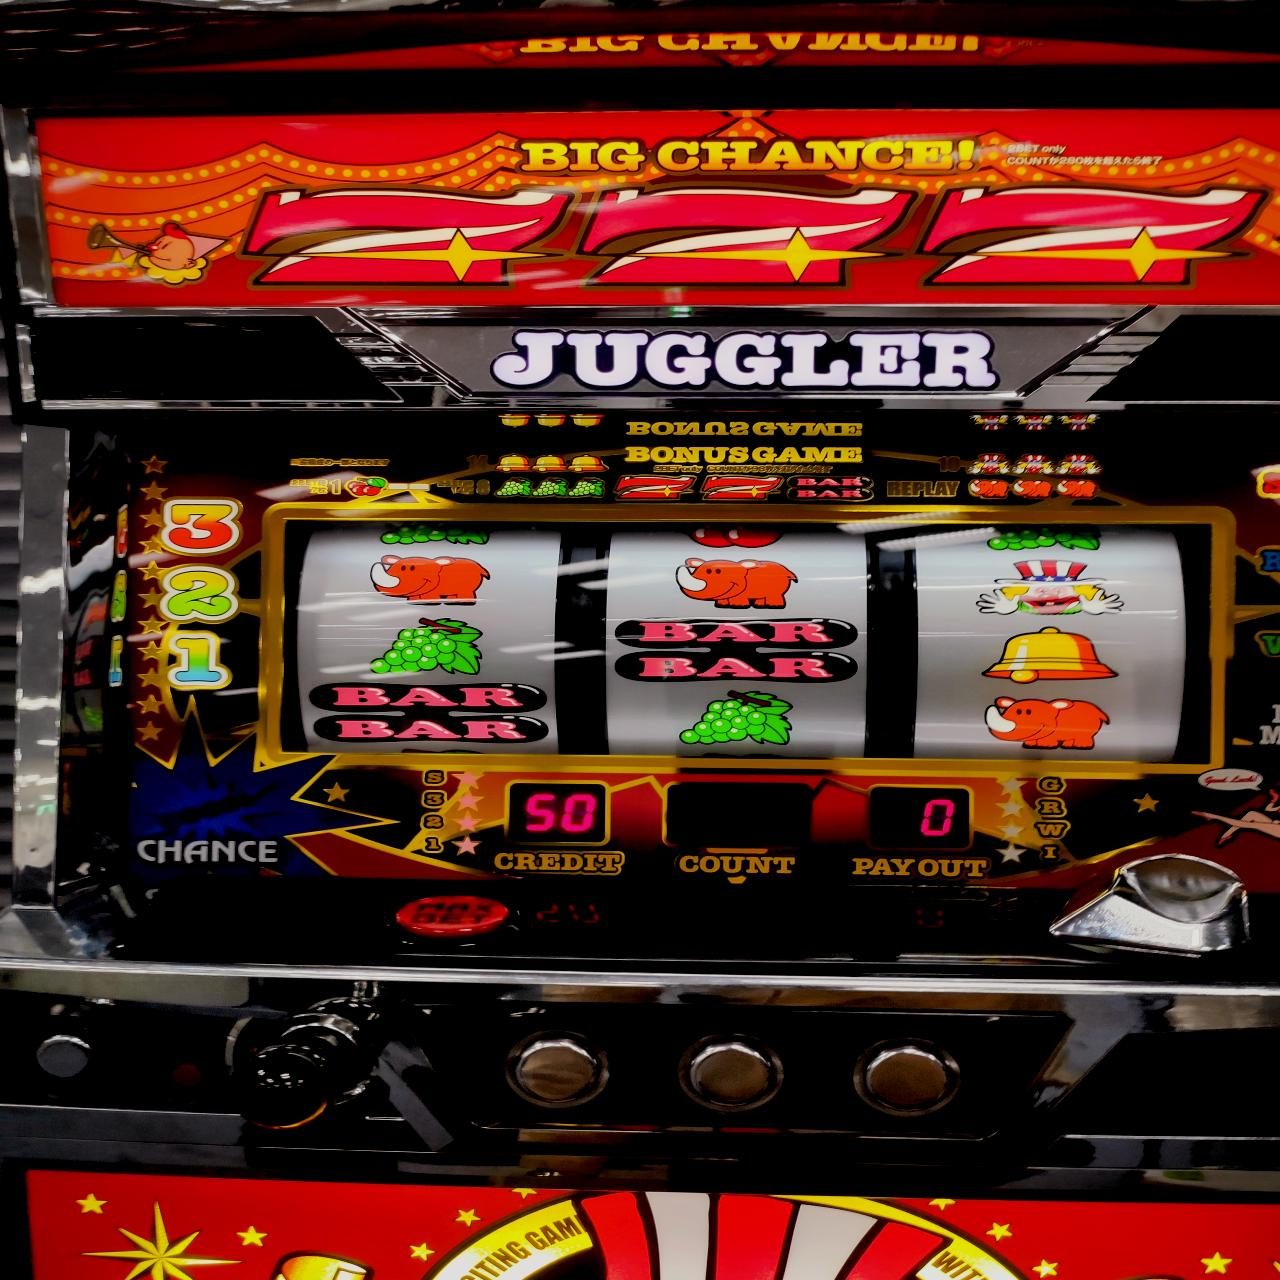8: (986, 694, 1114, 751), (369, 551, 490, 607), (676, 557, 802, 608)
Display: (263, 511, 1235, 768)
bar: (613, 613, 858, 682), (308, 682, 549, 741)
bell: (986, 626, 1116, 686)
clown: (975, 559, 1126, 615)
grape: (369, 617, 484, 675), (675, 689, 795, 744)
